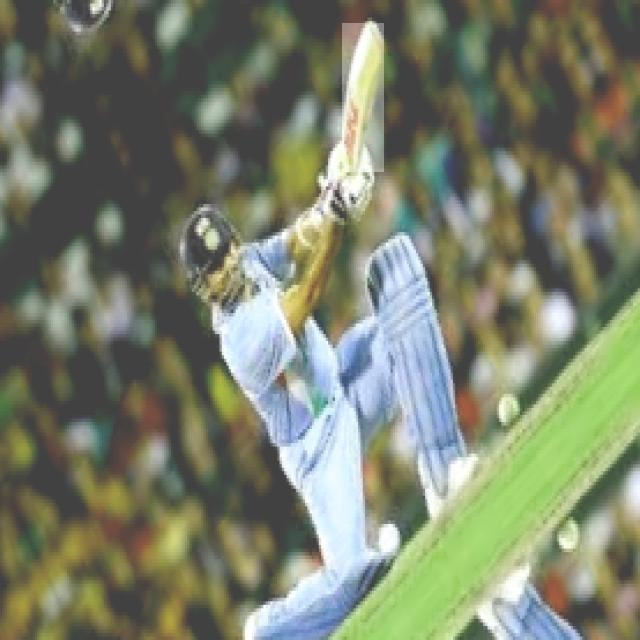bat: (341, 20, 388, 175)
toe: (357, 15, 397, 43)
